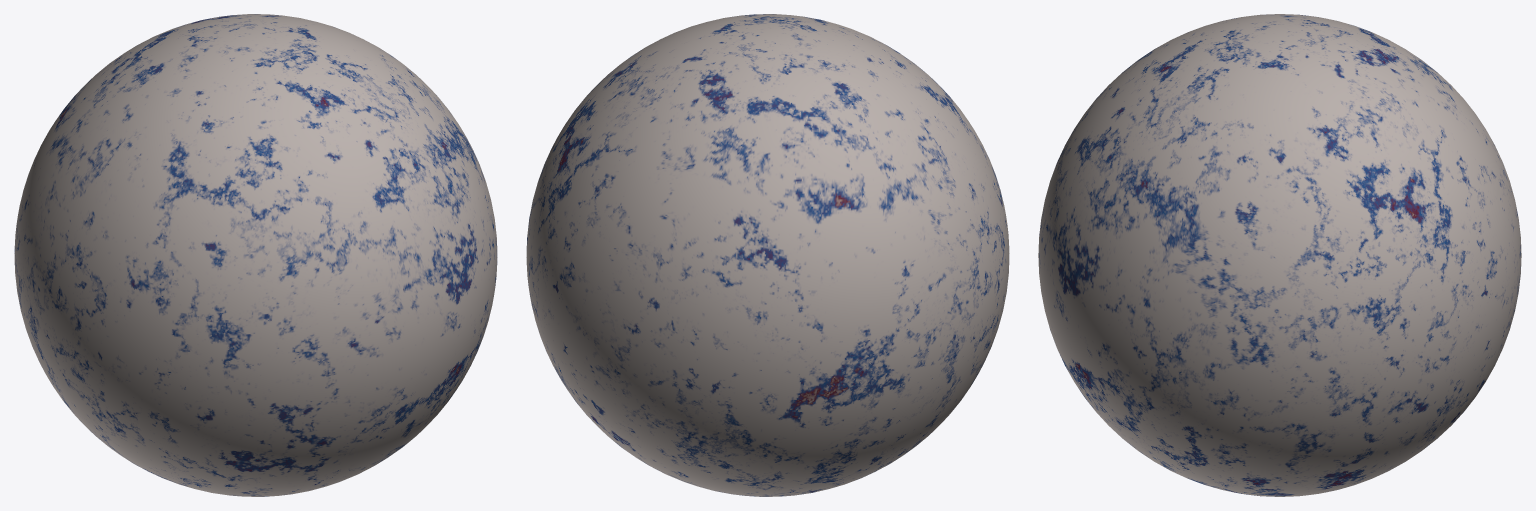
File: ubados.glb
The picture shows the model from 3 angles, left to right: view 1: azimuth 30°, elevation 25°; view 2: azimuth 150°, elevation 25°; view 3: azimuth 270°, elevation 25°; orthographic projection.
Visible parts, largest first — view 1: Planet; view 2: Planet; view 3: Planet.
Part boxes in pixels (x1,y1,x2,y2): Planet: [14, 14, 497, 496]; Planet: [526, 14, 1009, 496]; Planet: [1038, 14, 1521, 496].
Bounding box in the file's own units: 1.08 × 1.08 × 1.08.
Materials: 1 (1 with a texture image).
